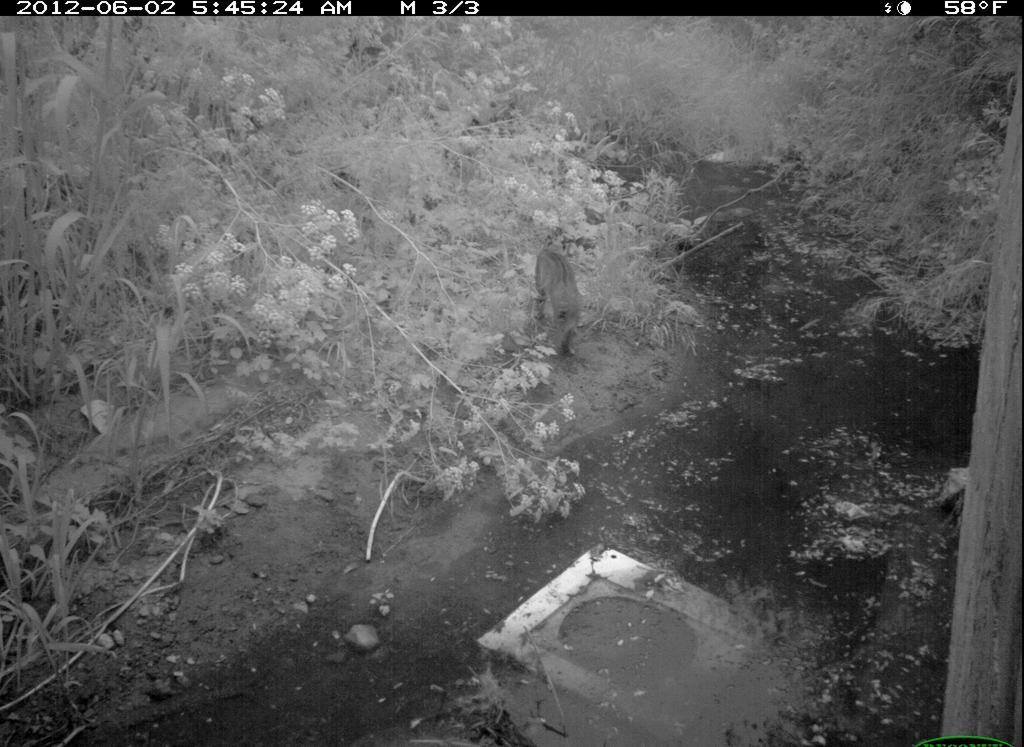bobcat: (527, 228, 607, 373)
